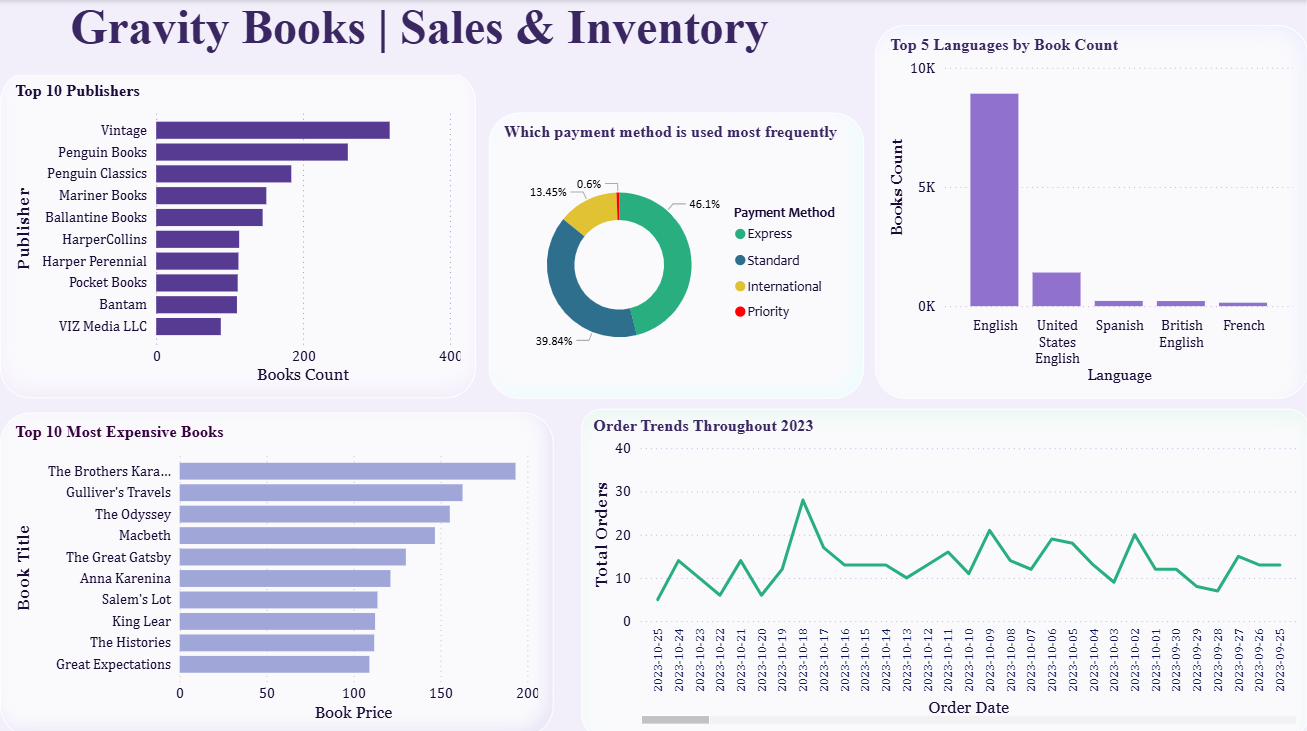

The page's visual inventory and layout, read from the dashboard file:
{"tool":"powerbi","page":{"name":"Page 1","canvas":[1280,720],"ordinal":0},"visuals":[{"type":"clusteredColumnChart","title":"Top 5 Languages by Book Count","fields":{"Y":["Dim Book (Measures).Dim Book Count"],"Category":["Dim Book.Language Name"]},"box":[856,24.5,424.3,365.6],"z":0},{"type":"lineChart","title":"Order Trends Throughout  2023","fields":{"Category":["Fact_DD.Order Date"],"Y":["Fact.Fact Count"]},"box":[568.6,399.9,711.7,320.4],"z":1000},{"type":"clusteredBarChart","title":"Top 10 Publishers ","fields":{"Category":["Dim Book.Publisher Name"],"Y":["Dim Book (Measures).Dim Book Count"]},"box":[0,69.7,465.9,320.4],"z":2000},{"type":"clusteredBarChart","title":"Top 10 Most Expensive Books","fields":{"Category":["Dim Book.Title"],"Y":["Fact.Price"]},"box":[0,403.5,541.7,316.7],"z":3000},{"type":"donutChart","title":"Which payment method is used most frequently","fields":{"Category":["Fact_DD.Method Name DD"],"Y":["Fact.Fact Count"]},"box":[478.1,110.1,366.8,280],"z":4000},{"type":"shape","title":"Gravity Books | Sales & Inventory ","box":[0,0,820.5,73.4],"z":6000}]}

Visuals, with their boxes in screenshot pixels (x1, y1, x2, y2), scaled from the page's 1280x720 canvas onto the 1307x731 screenshot:
"Top 5 Languages by Book Count" clusteredColumnChart: [874, 25, 1306, 396]
"Order Trends Throughout  2023" lineChart: [581, 406, 1306, 730]
"Top 10 Publishers " clusteredBarChart: [0, 71, 476, 396]
"Top 10 Most Expensive Books" clusteredBarChart: [0, 410, 553, 730]
"Which payment method is used most frequently" donutChart: [488, 112, 863, 396]
"Gravity Books | Sales & Inventory " shape: [0, 0, 838, 75]
